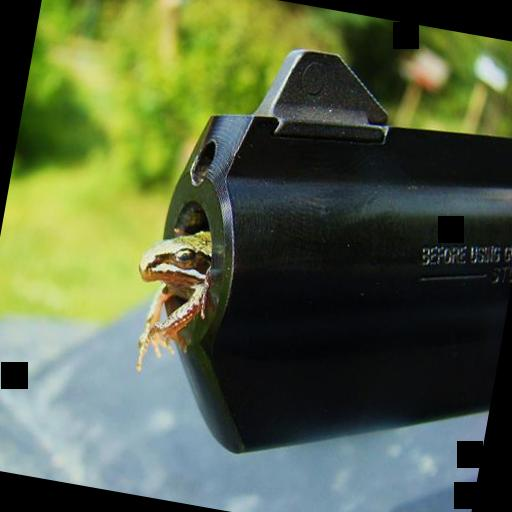Handgun: (118, 15, 512, 494)
